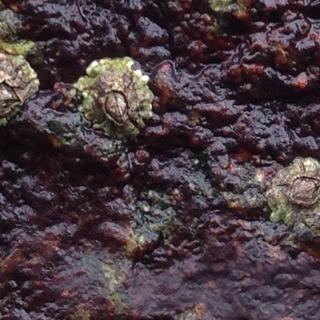Barnacle: (288, 177, 320, 200), (106, 89, 128, 119)
